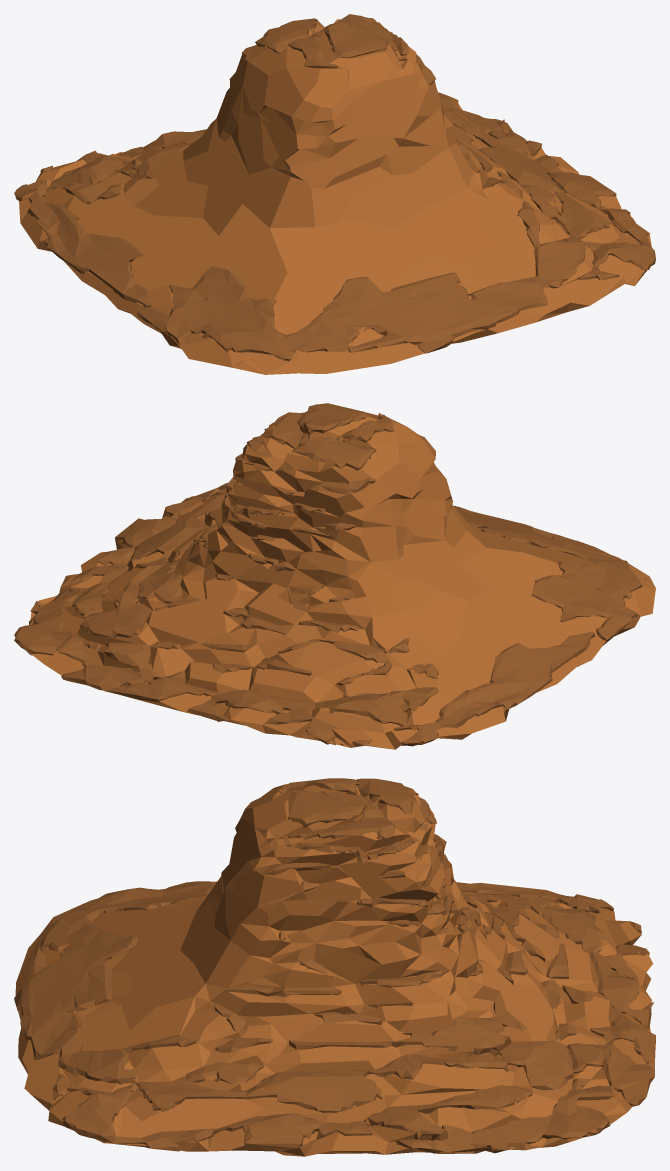
The model's file is Mountain01.gltf.
3 renders of one model, top to bottom at view 1: azimuth 30°, elevation 25°; view 2: azimuth 150°, elevation 25°; view 3: azimuth 270°, elevation 25°, orthographic. The views are drawn at different scales.
Visible parts, largest first — view 1: Cube.036; view 2: Cube.036; view 3: Cube.036.
Boxes of the visible parts, box(x1,y1,x2,y2) form: Cube.036: box(14, 14, 655, 374); Cube.036: box(14, 403, 655, 749); Cube.036: box(14, 778, 655, 1156).
Bounding box in the file's own units: 128 × 53.77 × 130.
